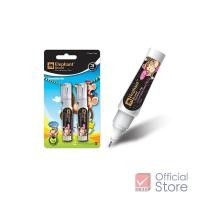Correction_fluid: (106, 46, 167, 150), (73, 82, 92, 147), (58, 81, 75, 143)
